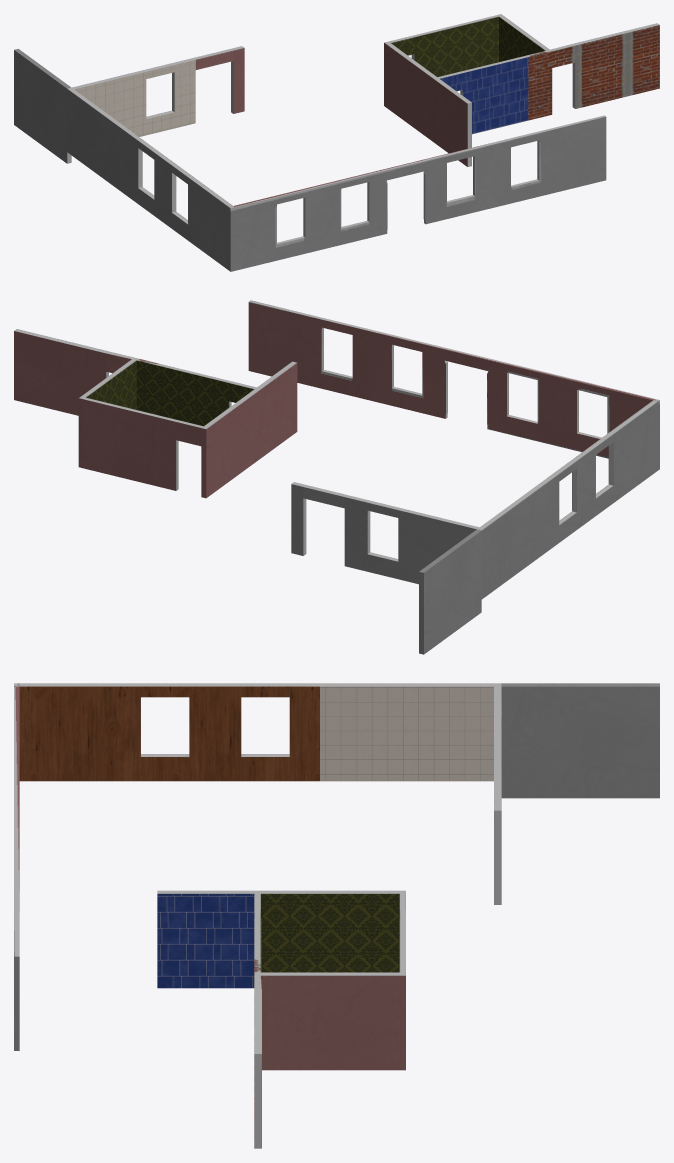
File: ModuloP1_A.fbx
The picture shows the model from 3 angles, top to bottom: view 1: azimuth 30°, elevation 25°; view 2: azimuth 150°, elevation 25°; view 3: azimuth 270°, elevation 25°; orthographic projection. The views are drawn at different scales.
Parts seen in each view (by area): view 1: ModuloP1_A; view 2: ModuloP1_A; view 3: ModuloP1_A.
Boxes of the visible parts, box(x1,y1,x2,y2) form: ModuloP1_A: box(14, 14, 659, 271); ModuloP1_A: box(14, 300, 659, 654); ModuloP1_A: box(14, 683, 659, 1148).
Size of the model in its own units: 25.21 by 3.55 by 18.56.
